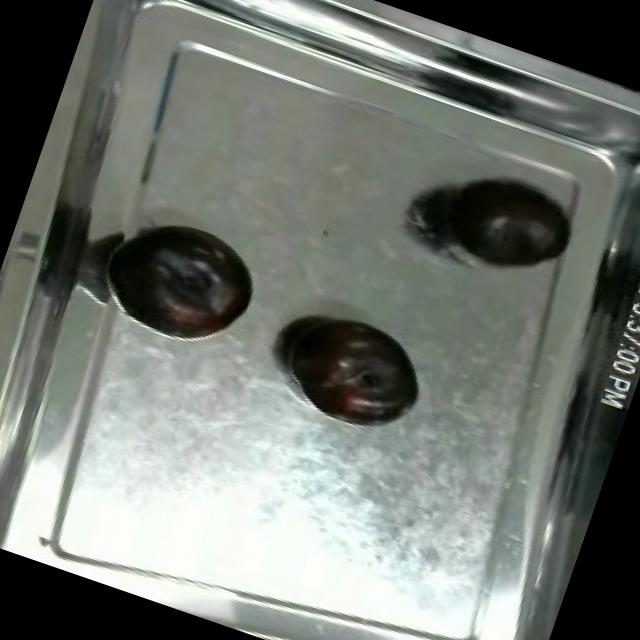Fruit: (90, 200, 273, 358), (265, 296, 440, 445), (424, 155, 587, 293)
